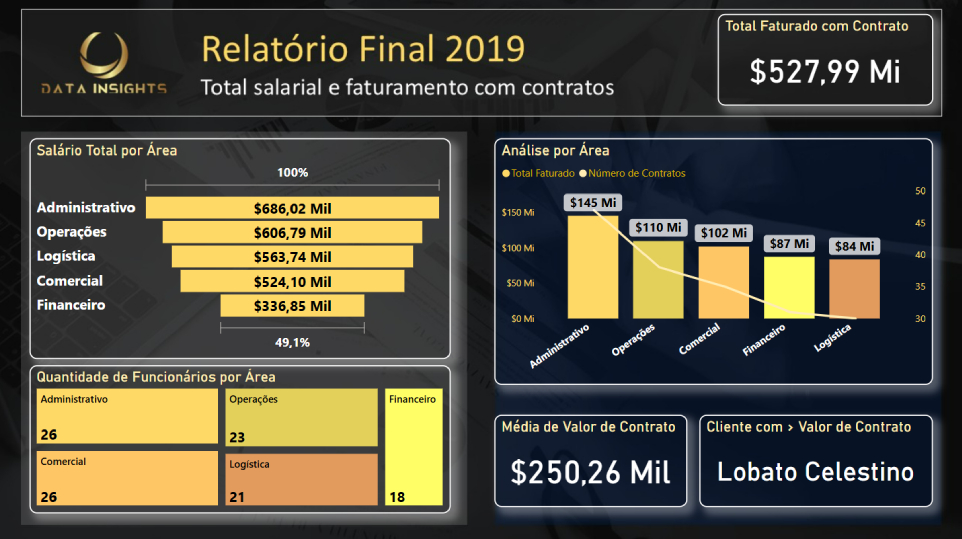

What the dashboard file says about the page in this screenshot:
{"tool":"powerbi","page":{"name":"Análise Contratos","canvas":[1280,720],"ordinal":0},"visuals":[{"type":"funnel","title":"Salário Total por Área","fields":{"Y":["BaseFuncionarios.Salário Total"],"Category":["BaseCargos.Área"]},"box":[42.9,185.3,557.1,292],"z":0},{"type":"lineStackedColumnComboChart","title":"Análise por Área","fields":{"Y":["Medidas.Total Faturado"],"Y2":["CadastroClientes.Valor Contrato Anual"],"Category":["CadastroCargos.Área"]},"box":[657.7,185.3,580.4,326.4],"z":1000},{"type":"card","title":"Total Faturado com Contrato","fields":{"Values":["Medidas.Total Faturado"]},"box":[953.4,20.9,284.7,121.5],"z":3000},{"type":"treemap","title":"Quantidade de Funcionários por Área","fields":{"Group":["BaseCargos.Área"],"Values":["Medidas.quantidade de funcionários"]},"box":[42.9,485.9,557.1,196.3],"z":5000},{"type":"card","title":"Média de Valor de Contrato","fields":{"Values":["CadastroClientes.Valor Contrato Anual"]},"box":[657.3,551.6,255.2,122.1],"z":5001},{"type":"card","title":"Cliente com > Valor de Contrato","fields":{"Values":["CadastroClientes.Cliente"]},"box":[929,551.6,308.7,122.1],"z":5002}]}

Visuals, with their boxes in screenshot pixels (x1, y1, x2, y2), scaled from the page's 1280x720 canvas onto the 962x539 screenshot:
"Salário Total por Área" funnel: box=[32, 139, 451, 357]
"Análise por Área" lineStackedColumnComboChart: box=[494, 139, 931, 383]
"Total Faturado com Contrato" card: box=[717, 16, 931, 107]
"Quantidade de Funcionários por Área" treemap: box=[32, 364, 451, 511]
"Média de Valor de Contrato" card: box=[494, 413, 686, 504]
"Cliente com > Valor de Contrato" card: box=[698, 413, 930, 504]
